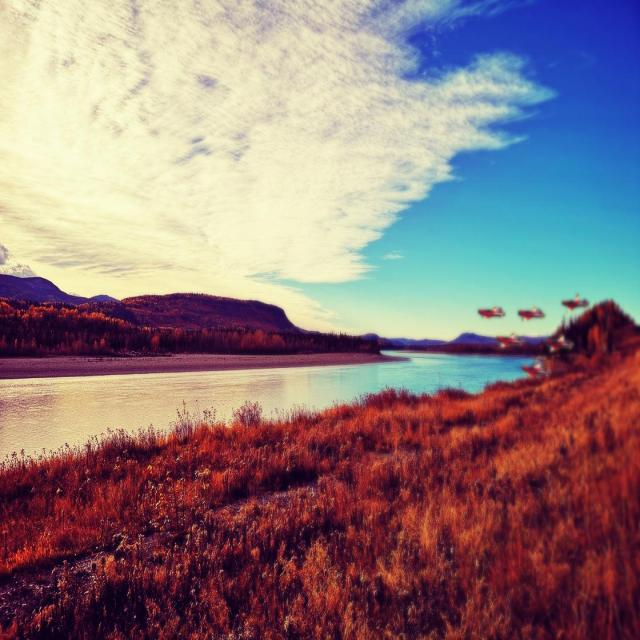airplane: (521, 363, 550, 378), (561, 294, 588, 310), (496, 332, 522, 348), (518, 306, 544, 321), (477, 306, 505, 319)
